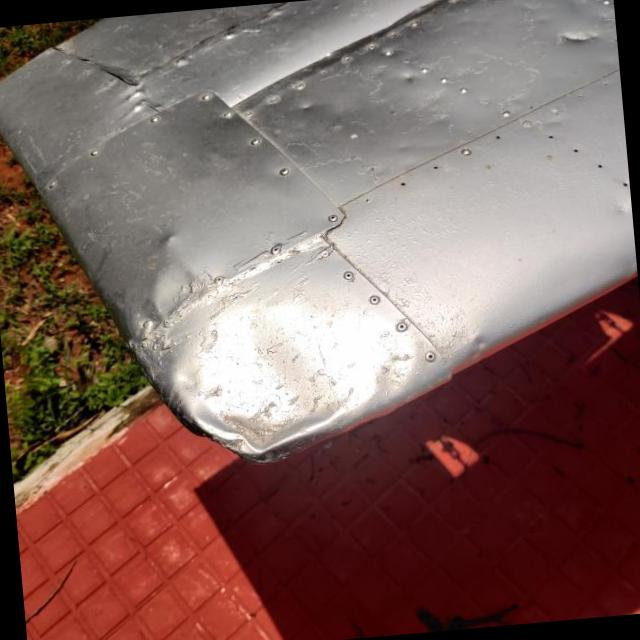Dent: (149, 250, 380, 461)
